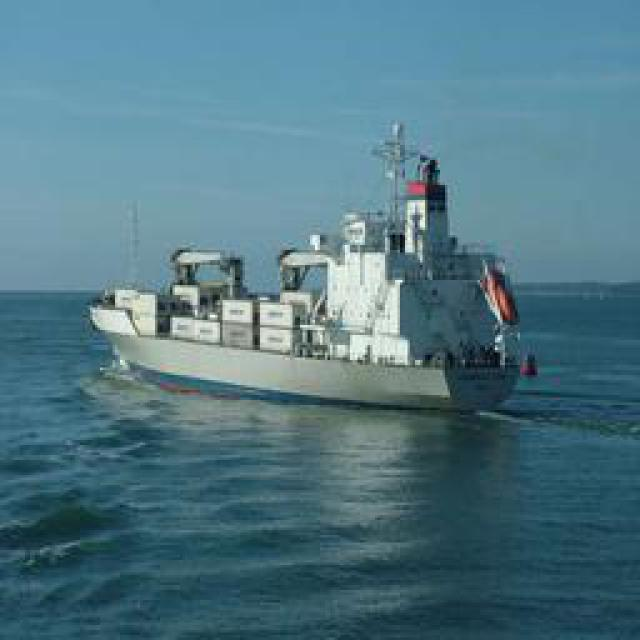Ship: (96, 111, 536, 414)
